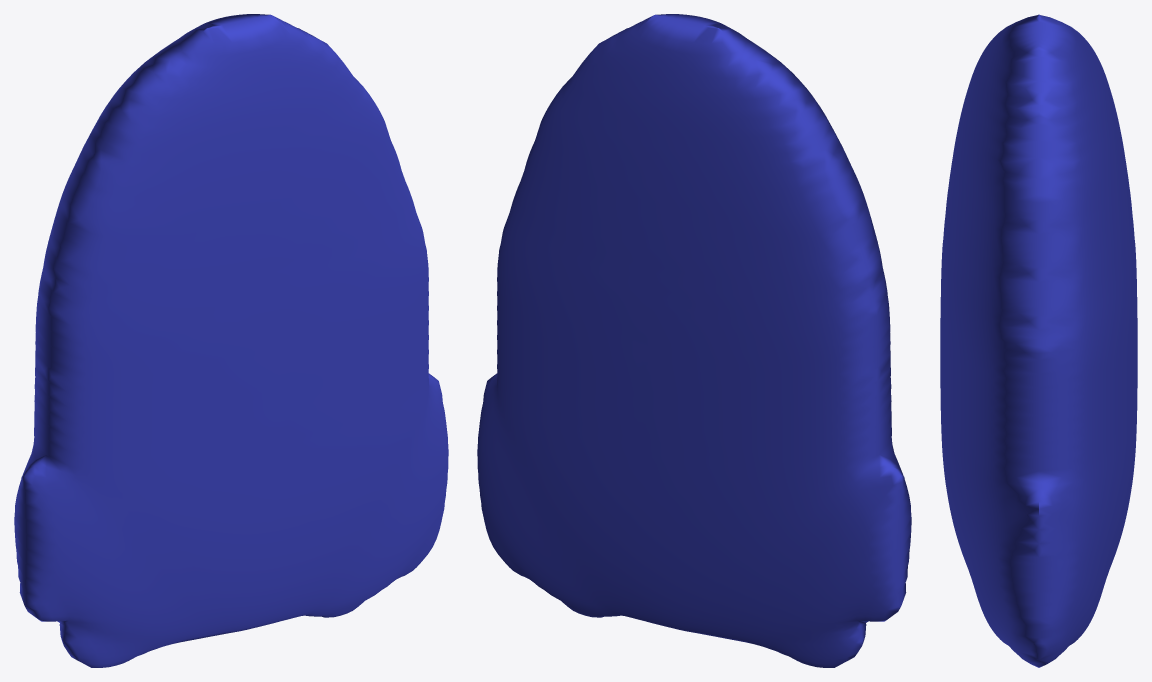
The model's file is Location_mesh.fbx.
3 views of the same model, side by side, from view 1: azimuth 30°, elevation 25°; view 2: azimuth 150°, elevation 25°; view 3: azimuth 270°, elevation 25° (orthographic). The views are drawn at different scales.
Parts seen in each view (by area): view 1: root; view 2: root; view 3: root.
Boxes of the visible parts, x1,y1,x2,y2 form: root: (14, 14, 448, 667); root: (477, 14, 911, 667); root: (940, 14, 1137, 667).
Bounding box in the file's own units: 3.53 × 5.01 × 1.53.
